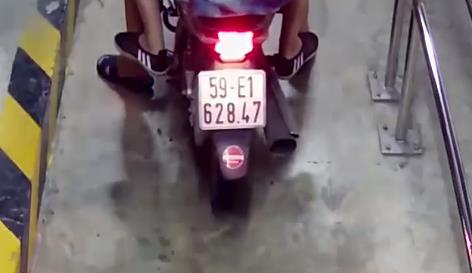lisence: (197, 68, 268, 129)
